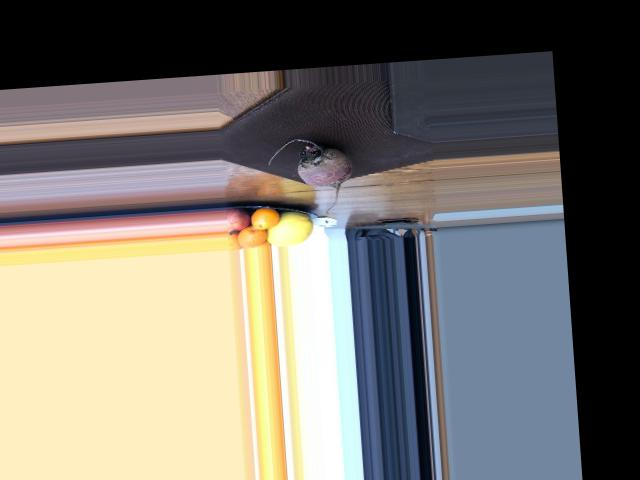beet: (267, 135, 355, 214)
